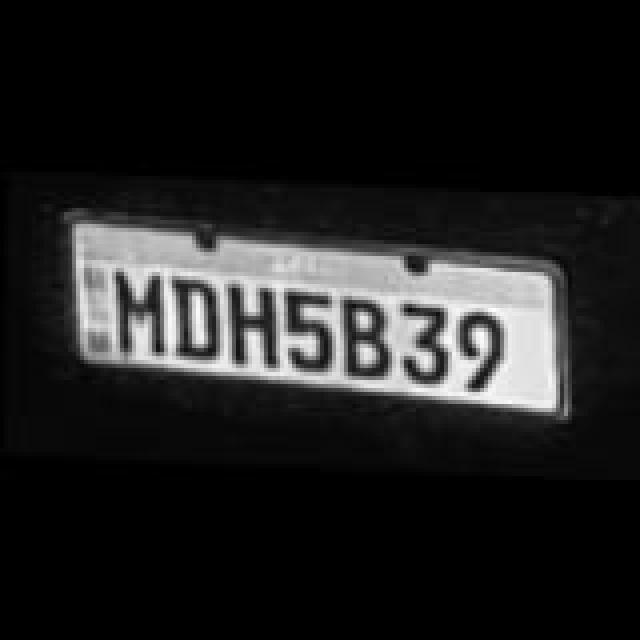3: (386, 294, 458, 382)
5: (272, 282, 348, 370)
9: (450, 302, 514, 386)
B: (328, 288, 404, 376)
D: (160, 270, 236, 358)
H: (212, 276, 288, 364)
M: (100, 260, 176, 352)
